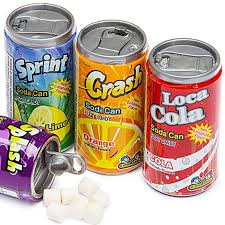can: (1, 2, 219, 204)
